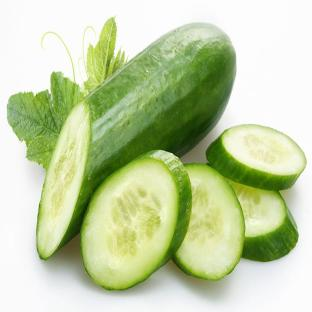Cucumber: (38, 24, 235, 259), (81, 151, 191, 289), (173, 164, 244, 279), (207, 125, 306, 190), (230, 181, 298, 261)
